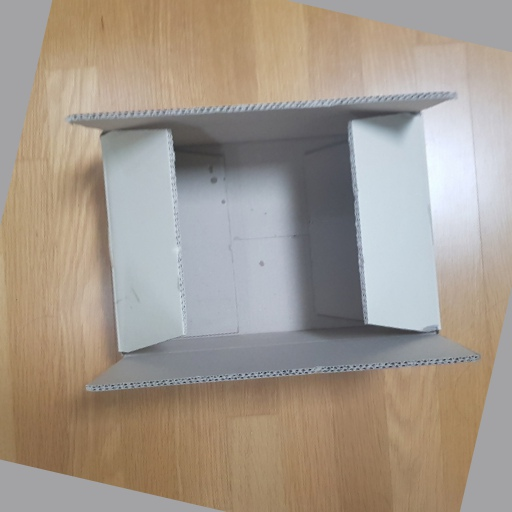Paper_0: (58, 88, 487, 394)
